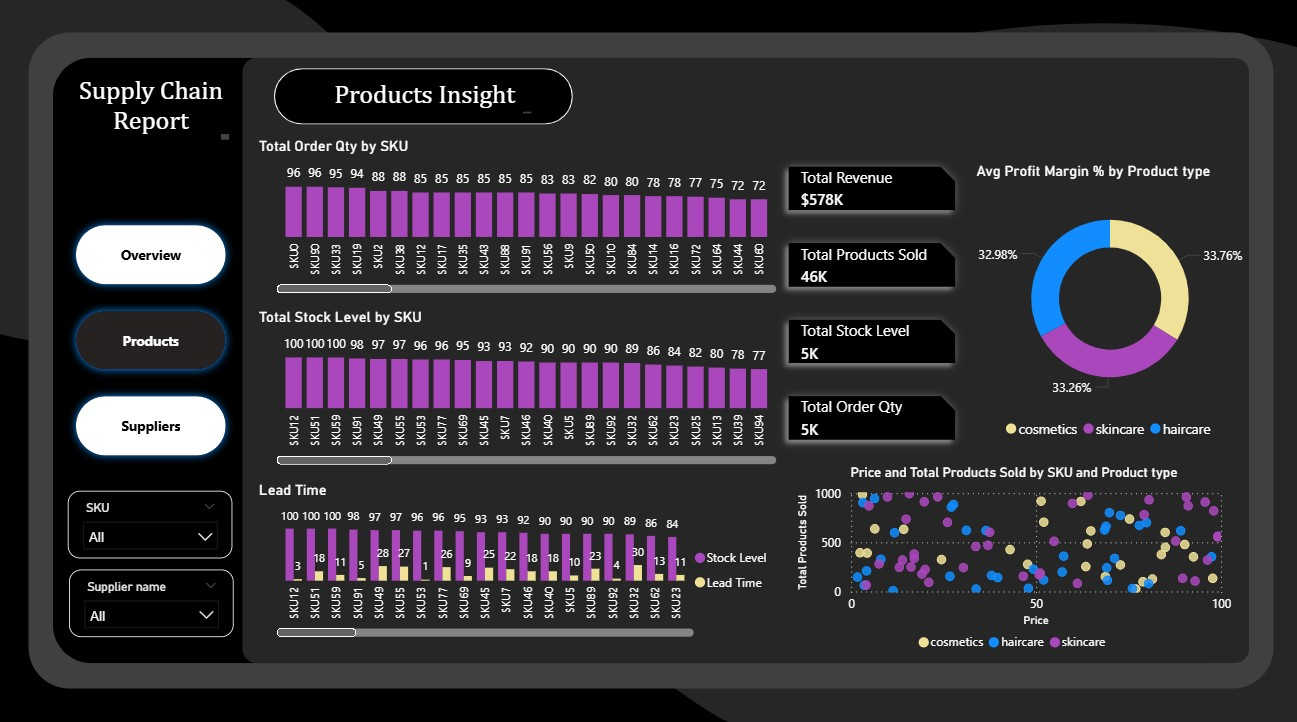

What the dashboard file says about the page in this screenshot:
{"tool":"powerbi","page":{"name":"Products","canvas":[1280,720],"ordinal":1},"visuals":[{"type":"group","id":"g1","title":"Group 1","box":[269.9,69.9,293.3,55.2],"z":0},{"type":"shape","box":[269.9,69.9,293.3,55.2],"z":0,"group":"g1"},{"type":"textbox","title":"Products Insight","box":[308,82.2,219.6,36.8],"z":1000,"group":"g1"},{"type":"columnChart","fields":{"Y":["Measure.Total Order Qty"],"Category":["supply_chain_data.SKU"]},"box":[250.3,137.4,517.8,158.3],"z":1000},{"type":"columnChart","fields":{"Y":["Measure.Total Stock Level"],"Category":["supply_chain_data.SKU"]},"box":[250.3,305.5,517.8,158.3],"z":2000},{"type":"clusteredColumnChart","title":"Lead Time","fields":{"Category":["supply_chain_data.SKU"],"Y":["Measure.Total Stock Level","Sum(supply_chain_data.Lead time)"]},"box":[250.3,474.8,517.8,158.3],"z":3000},{"type":"cardVisual","fields":{"Data":["Measure.Total Revenue","Measure.Total Products Sold","Measure.Total Stock Level","Measure.Total Order Qty"]},"box":[746,137.4,222.1,326.4],"z":4000},{"type":"donutChart","fields":{"Y":["Measure.Avg Profit Margin %"],"Category":["supply_chain_data.Product type"]},"box":[954.6,162,272.4,281],"z":5000},{"type":"scatterChart","fields":{"X":["Sum(supply_chain_data.Price)"],"Category":["supply_chain_data.SKU"],"Y":["Measure.Total Products Sold"],"Series":["supply_chain_data.Product type"]},"box":[777.9,458.9,436.8,192.6],"z":6000},{"type":"slicer","fields":{"Values":["supply_chain_data.SKU"]},"box":[67.5,484.7,162,66.3],"z":7000},{"type":"slicer","fields":{"Values":["supply_chain_data.Supplier name"]},"box":[68.7,562,162,66.3],"z":8000},{"type":"pageNavigator","box":[67.5,216,163.2,242.9],"z":9000},{"type":"textbox","title":"Supply Chain Report","box":[67.5,78.5,163.2,66.3],"z":10000}]}

Visuals, with their boxes in screenshot pixels (x1, y1, x2, y2), scaled from the page's 1280x720 canvas onto the 1297x722 screenshot:
"Group 1" group: (x1=273, y1=70, x2=571, y2=125)
shape: (x1=273, y1=70, x2=571, y2=125)
"Products Insight" textbox: (x1=312, y1=82, x2=535, y2=119)
columnChart - Measure.Total Order Qty x supply_chain_data.SKU: (x1=254, y1=138, x2=778, y2=297)
columnChart - Measure.Total Stock Level x supply_chain_data.SKU: (x1=254, y1=306, x2=778, y2=465)
"Lead Time" clusteredColumnChart: (x1=254, y1=476, x2=778, y2=635)
cardVisual - Measure.Total Revenue x Measure.Total Products Sold: (x1=756, y1=138, x2=981, y2=465)
donutChart - Measure.Avg Profit Margin % x supply_chain_data.Product type: (x1=967, y1=162, x2=1243, y2=444)
scatterChart - Sum(supply_chain_data.Price) x supply_chain_data.SKU: (x1=788, y1=460, x2=1231, y2=653)
slicer - supply_chain_data.SKU: (x1=68, y1=486, x2=233, y2=553)
slicer - supply_chain_data.Supplier name: (x1=70, y1=564, x2=234, y2=630)
pageNavigator: (x1=68, y1=217, x2=234, y2=460)
"Supply Chain Report" textbox: (x1=68, y1=79, x2=234, y2=145)
